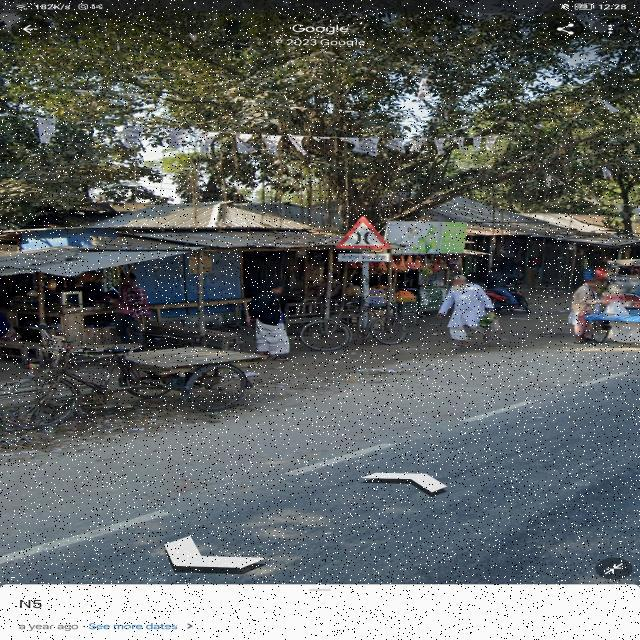Ahead-of-the-bridge: (326, 206, 402, 268)
